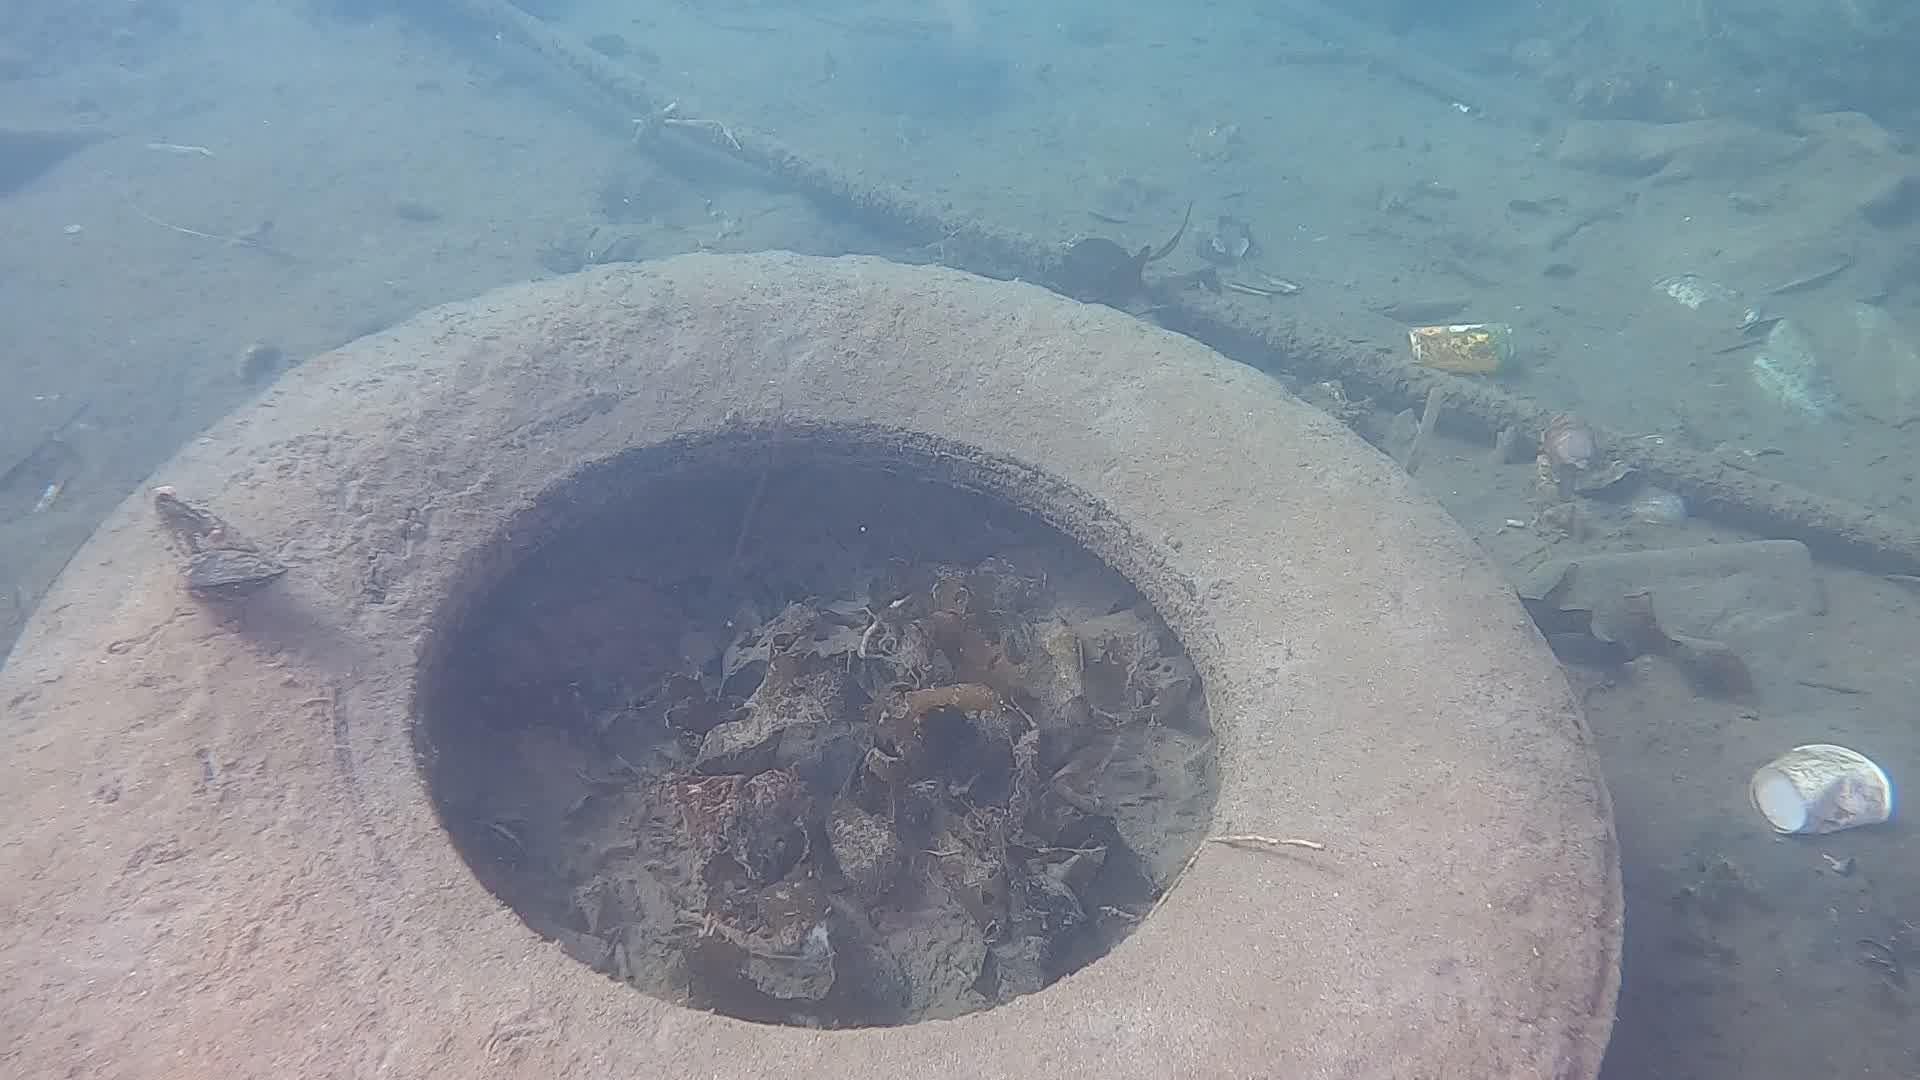rope: (480, 0, 1920, 559)
tire: (0, 244, 1625, 1080)
